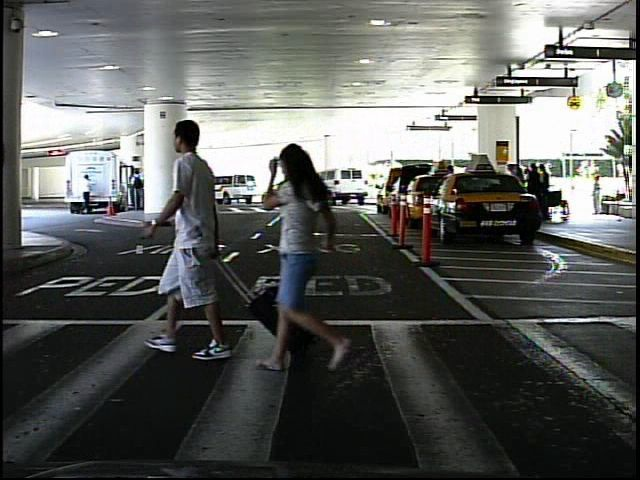person: (144, 99, 253, 365), (269, 133, 367, 379), (78, 171, 96, 221), (588, 172, 607, 218)
